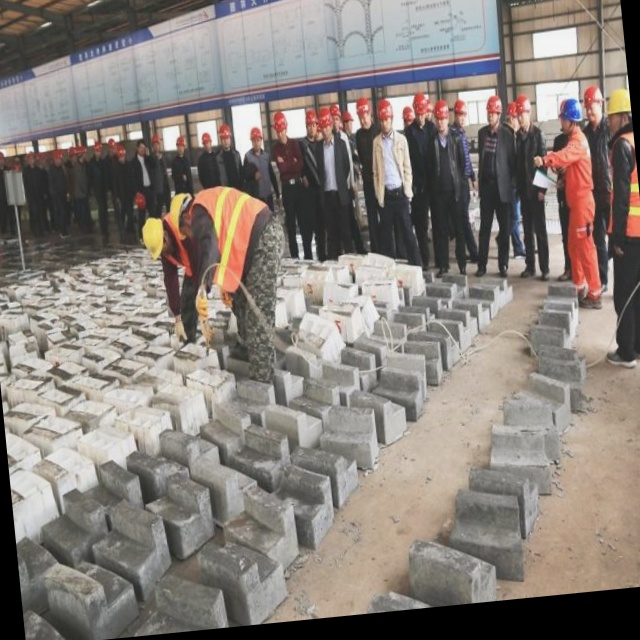Con_Chaleco: (190, 182, 277, 299)
